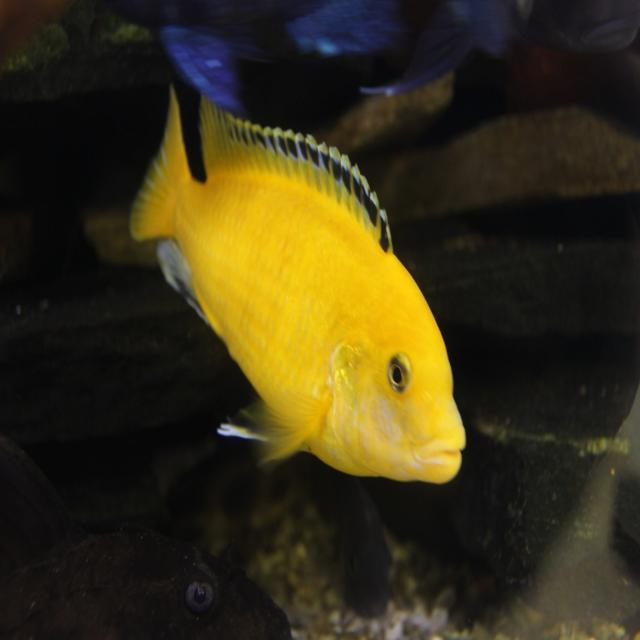YellowCichlid: (134, 88, 464, 482)
